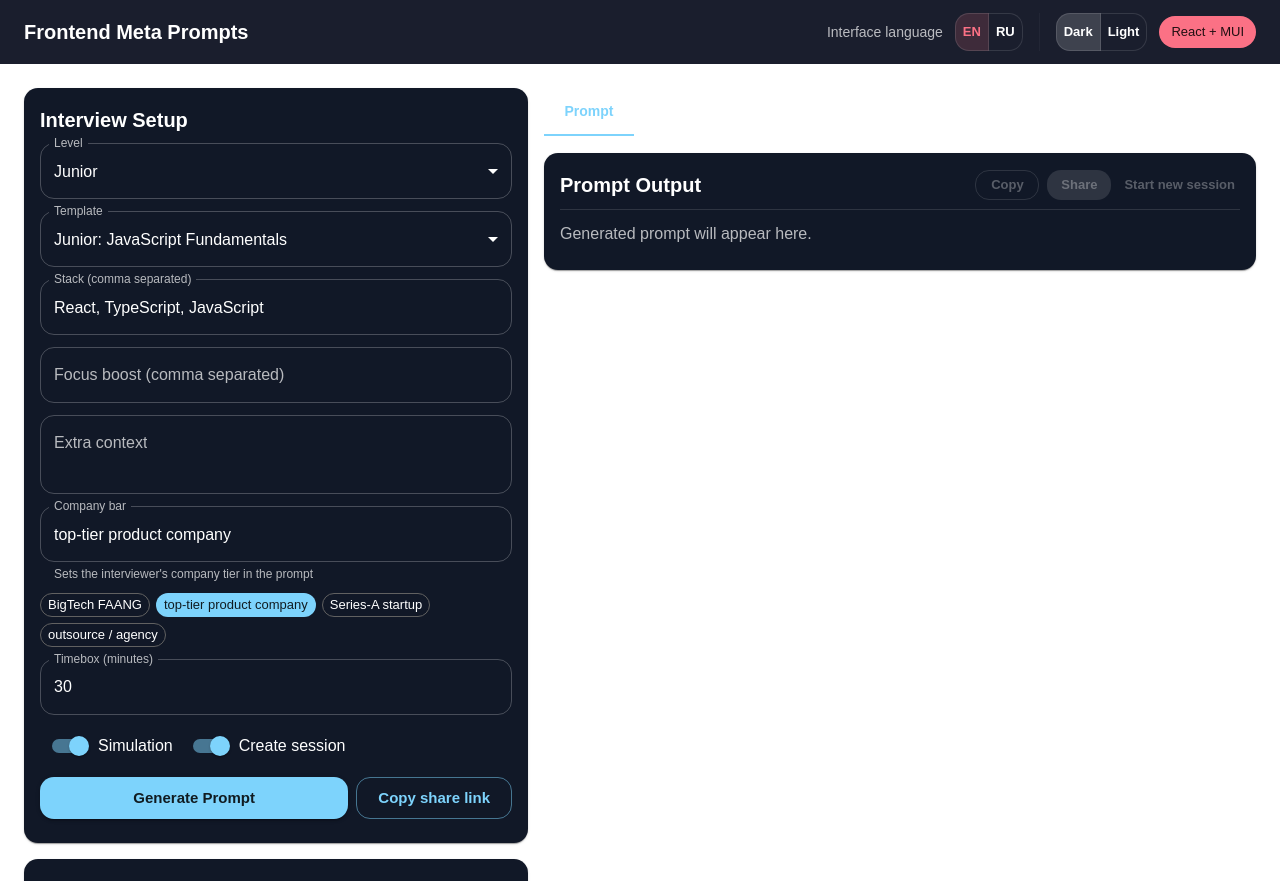
Test: App › generates prompt in russian after switching language
Click the button "RU" at (1005, 32), box [988, 13, 1023, 51]
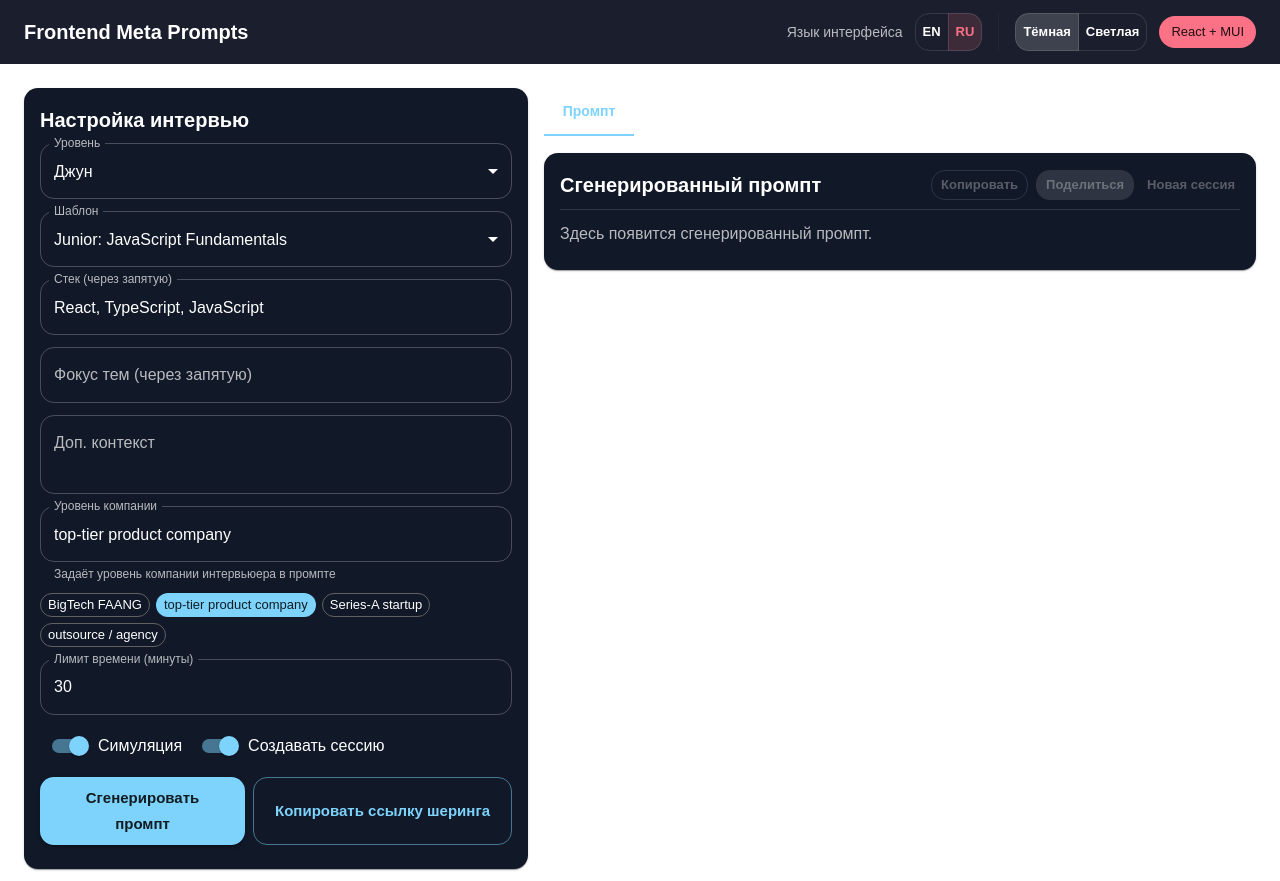
Click the button "Сгенерировать промпт" at (142, 811), box [40, 777, 245, 845]
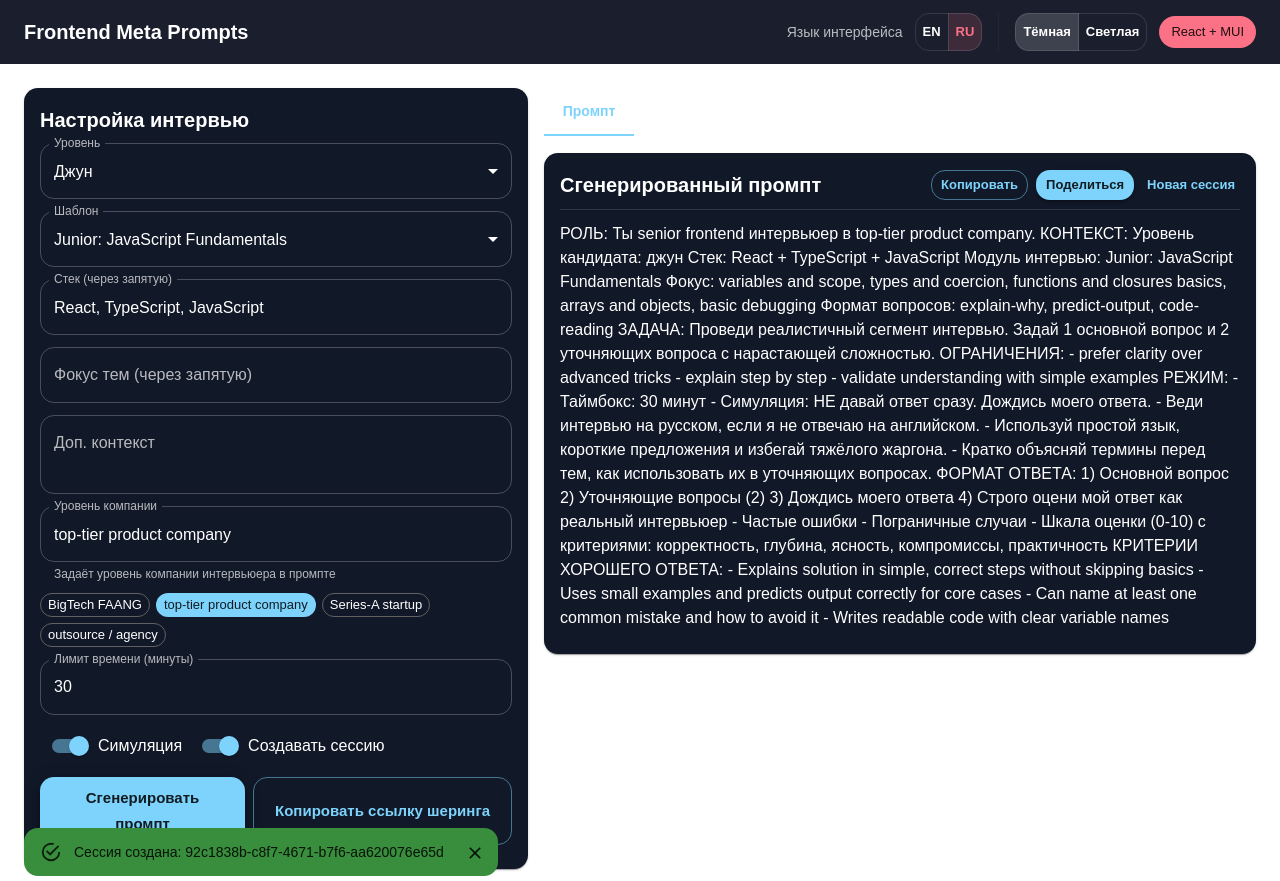
Result: the text "РОЛЬ:" is shown at [560, 225, 1238, 626]
Result: the text "Сессия создана: 92c1838b-c8f7-4671-b7f6-aa620076e65d" is shown at [74, 844, 444, 860]
